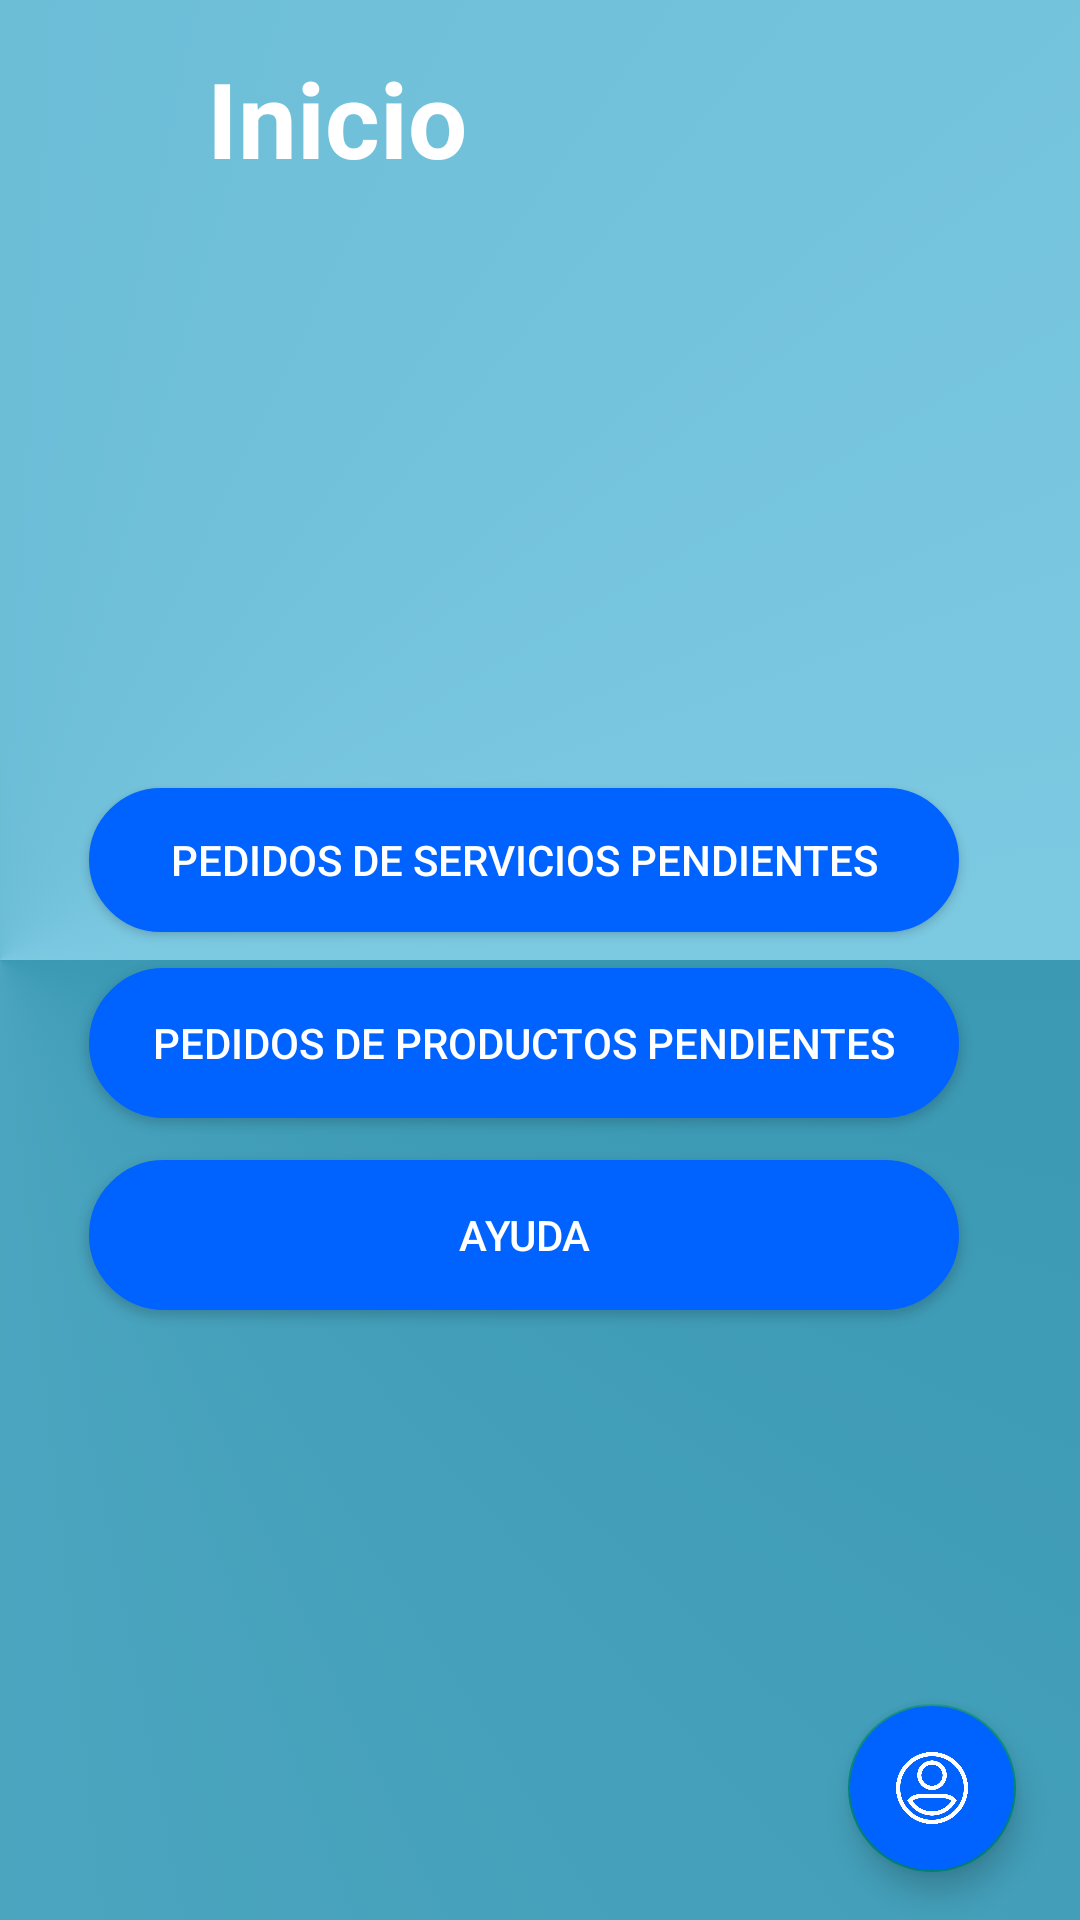

Icons on this 1080x1920 Android screen, each with its box as (x1=x1, y1=y1, x2=x2, y2=y2):
user: (x1=848, y1=1704, x2=1016, y2=1872)
